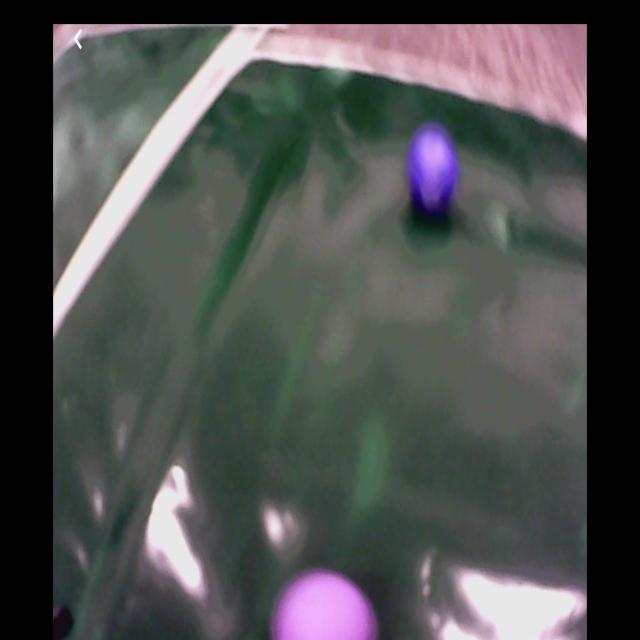ball: (270, 571, 377, 640), (410, 128, 458, 214)
